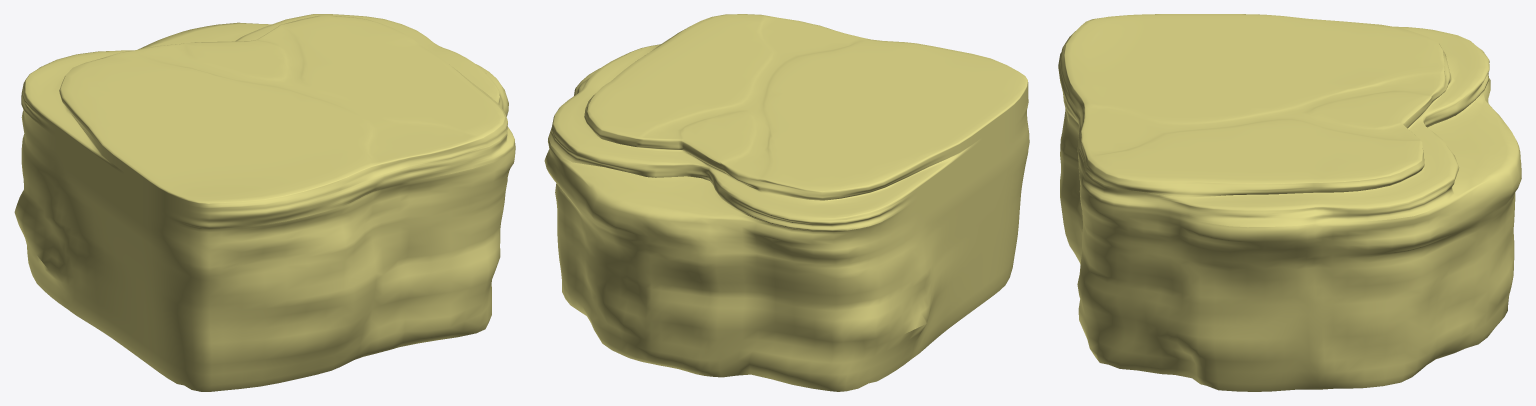
The model's file is MSH_env_plateau.fbx.
3 renders of one model, left to right at view 1: azimuth 30°, elevation 25°; view 2: azimuth 150°, elevation 25°; view 3: azimuth 270°, elevation 25°, orthographic. The views are drawn at different scales.
Visible parts, largest first — view 1: env_base_s6; view 2: env_base_s6; view 3: env_base_s6.
Part boxes in pixels (x1,y1,x2,y2): env_base_s6: [14, 14, 515, 391]; env_base_s6: [544, 14, 1029, 391]; env_base_s6: [1058, 14, 1521, 391].
Size of the model in its own units: 223 by 110 by 223.
